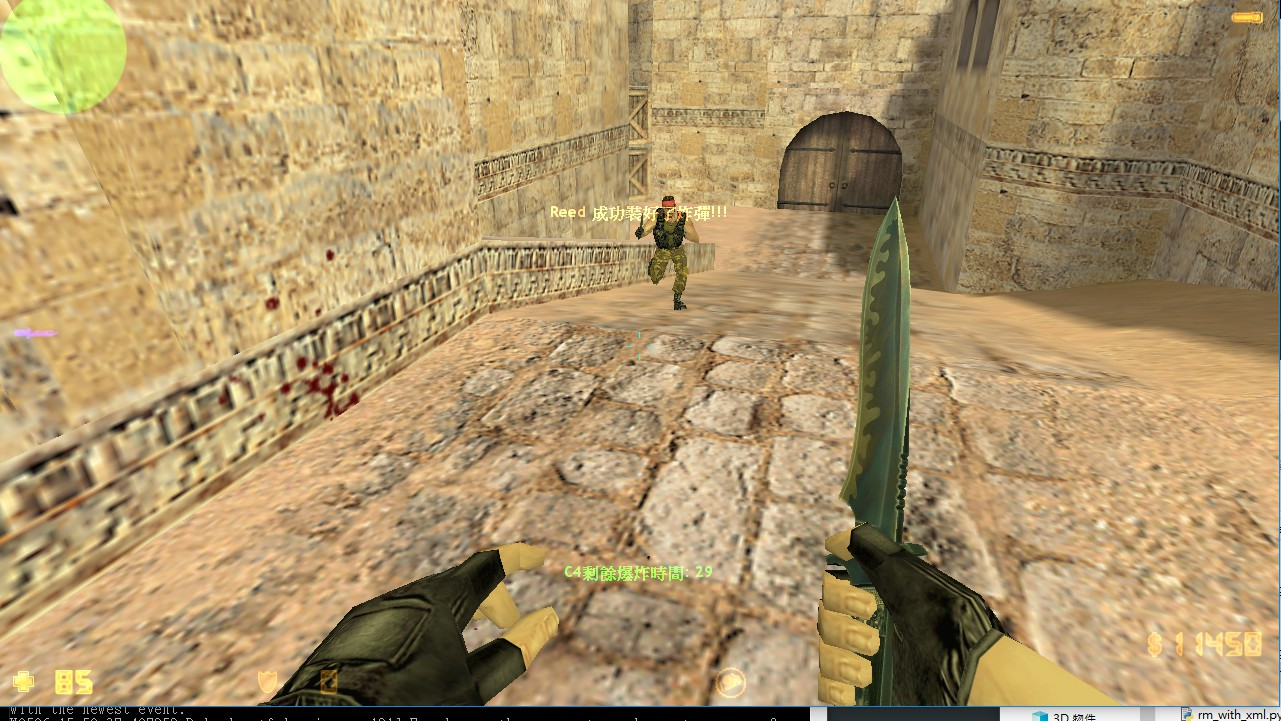person: (629, 185, 697, 314)
